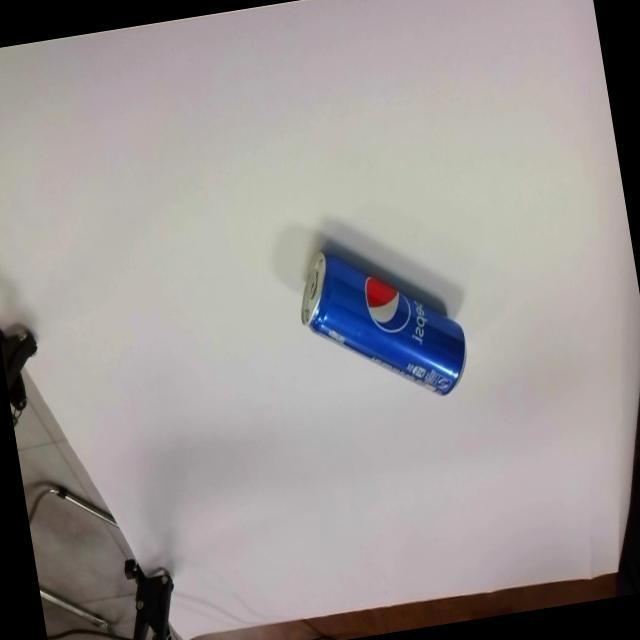debris: (288, 230, 474, 417)
